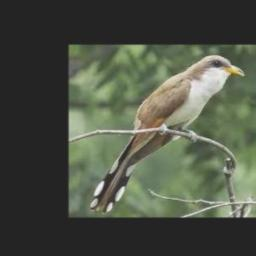Cuckoo: (90, 55, 243, 214)
